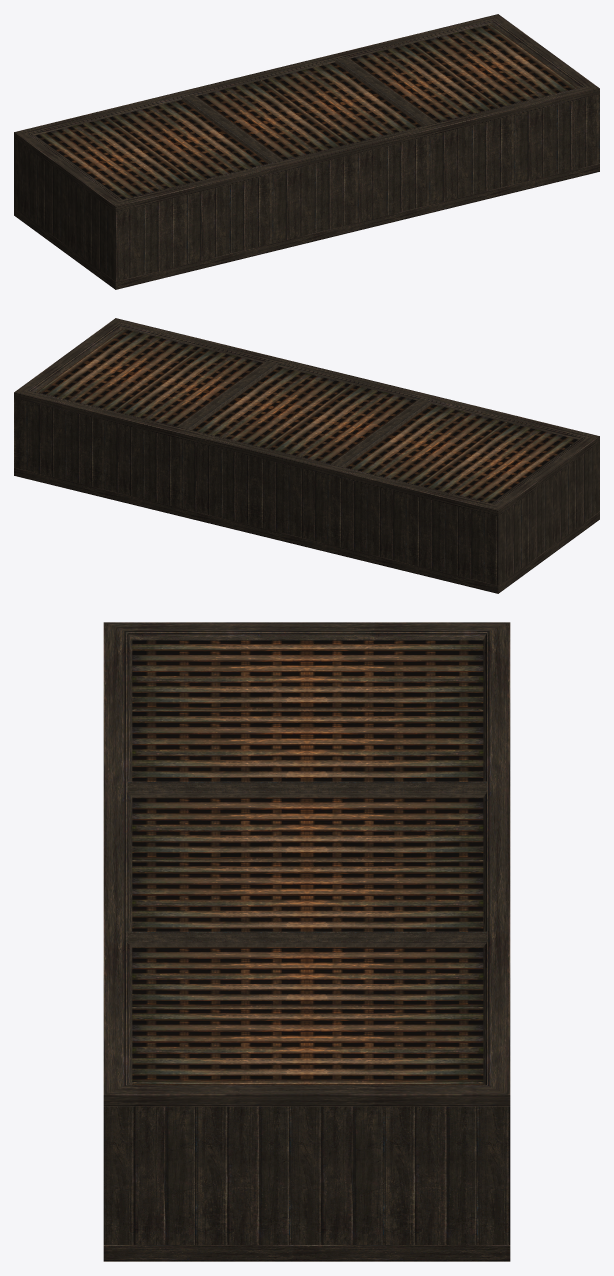
File: vent07.glb
3 views of the same model, one above another, from view 1: azimuth 30°, elevation 25°; view 2: azimuth 150°, elevation 25°; view 3: azimuth 270°, elevation 25° (orthographic). The views are drawn at different scales.
Parts seen in each view (by area): view 1: vent07; view 2: vent07; view 3: vent07.
Boxes of the visible parts, x1,y1,x2,y2 form: vent07: [14, 14, 599, 289]; vent07: [14, 318, 599, 593]; vent07: [103, 622, 510, 1261].
Size of the model in its own units: 9.22 by 1.52 by 3.35.
Materials: 2 (2 with a texture image).
